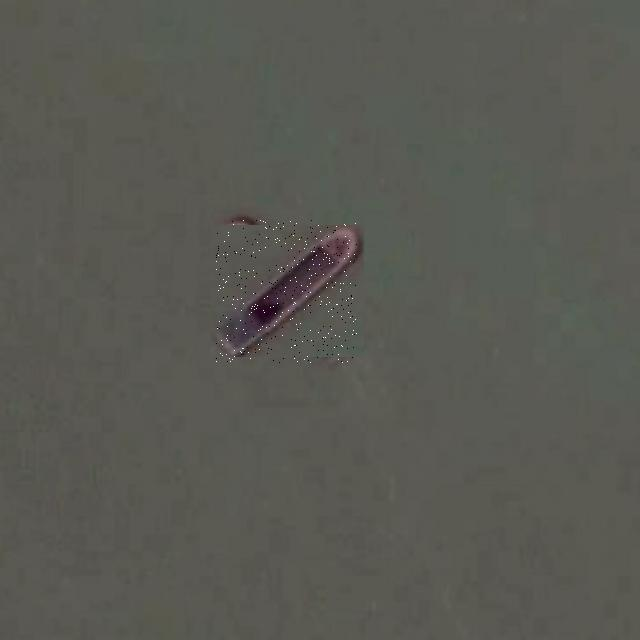boat: (216, 220, 358, 363)
